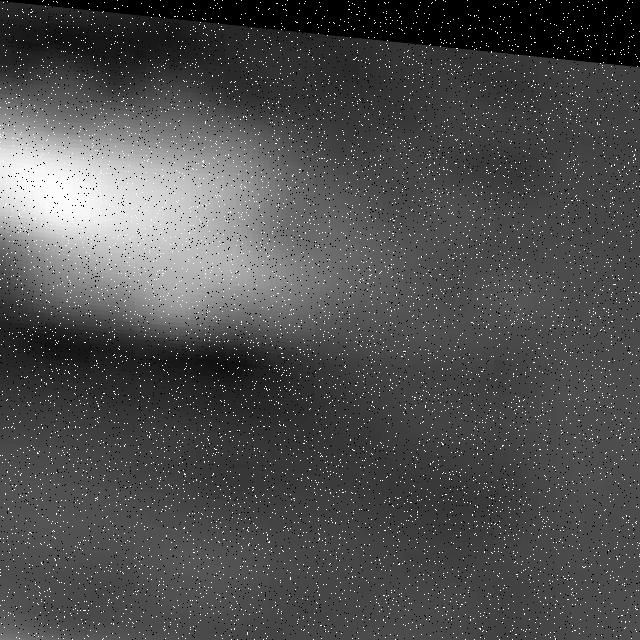person: (1, 61, 360, 363)
